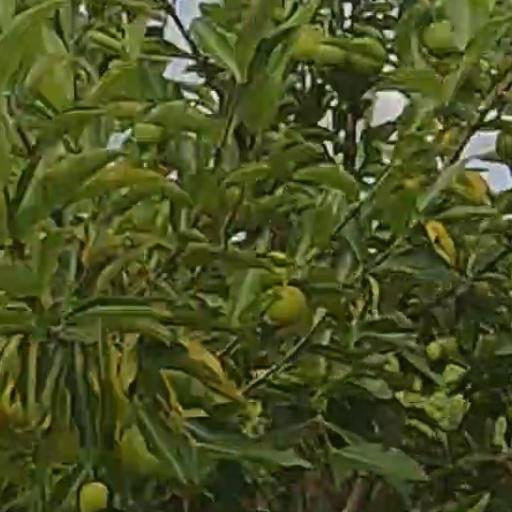acerola_verde: (270, 289, 305, 323), (80, 484, 111, 510)
